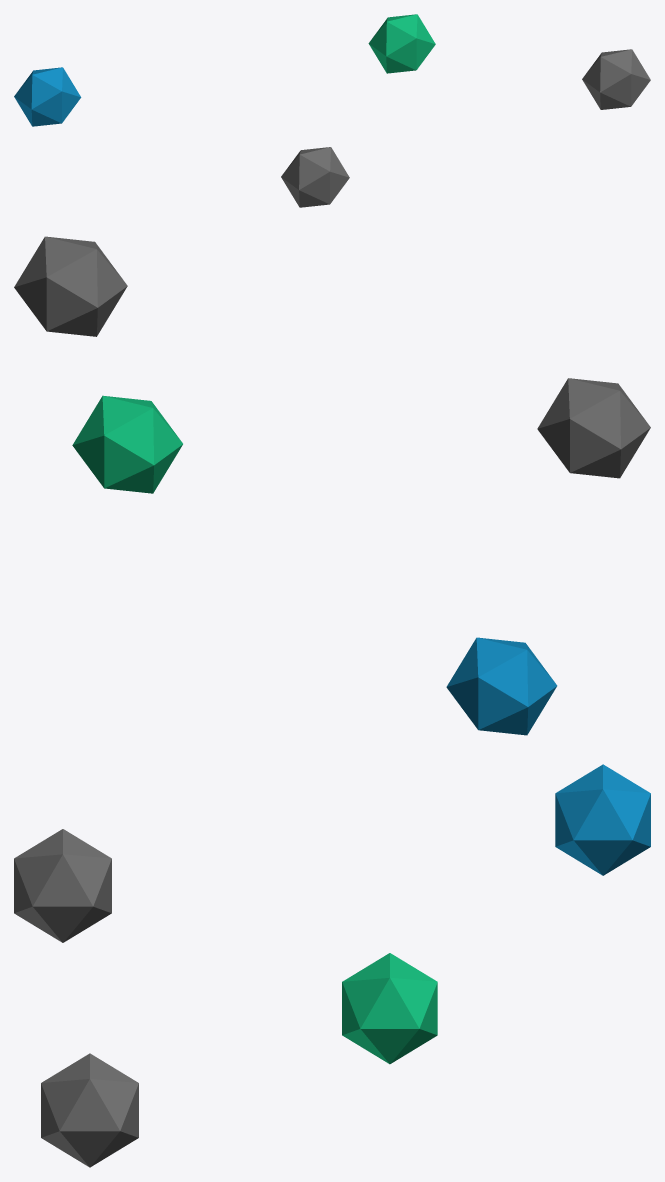
3 views of the same model, one above another, from view 1: azimuth 30°, elevation 25°; view 2: azimuth 150°, elevation 25°; view 3: azimuth 270°, elevation 25° (orthographic). The views are drawn at different scales.
Visible parts, largest first — view 1: 09_04_00; view 2: 09_04_00; view 3: 09_04_00.
Boxes of the visible parts, x1,y1,x2,y2 form: 09_04_00: (14,14,650,207); 09_04_00: (14,236,650,735); 09_04_00: (14,764,650,1167).
Size of the model in its own units: 0.5087 by 0.0848 by 0.3614.
